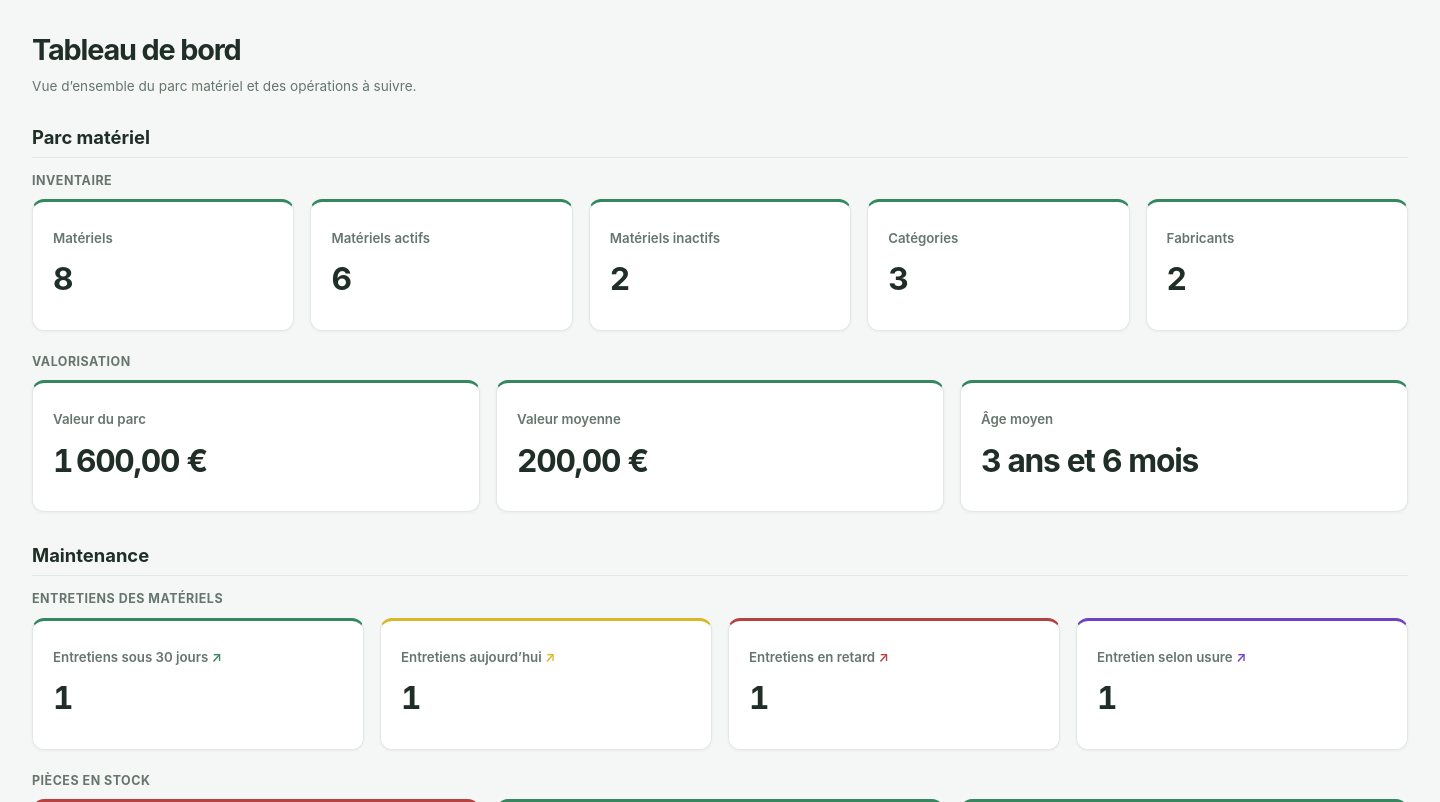
DashboardPage › opens the list matching the "Entretiens en retard" counter
Click the button "Entretiens en retard 1".
click(812, 657)  # box [729,621,1059,749]
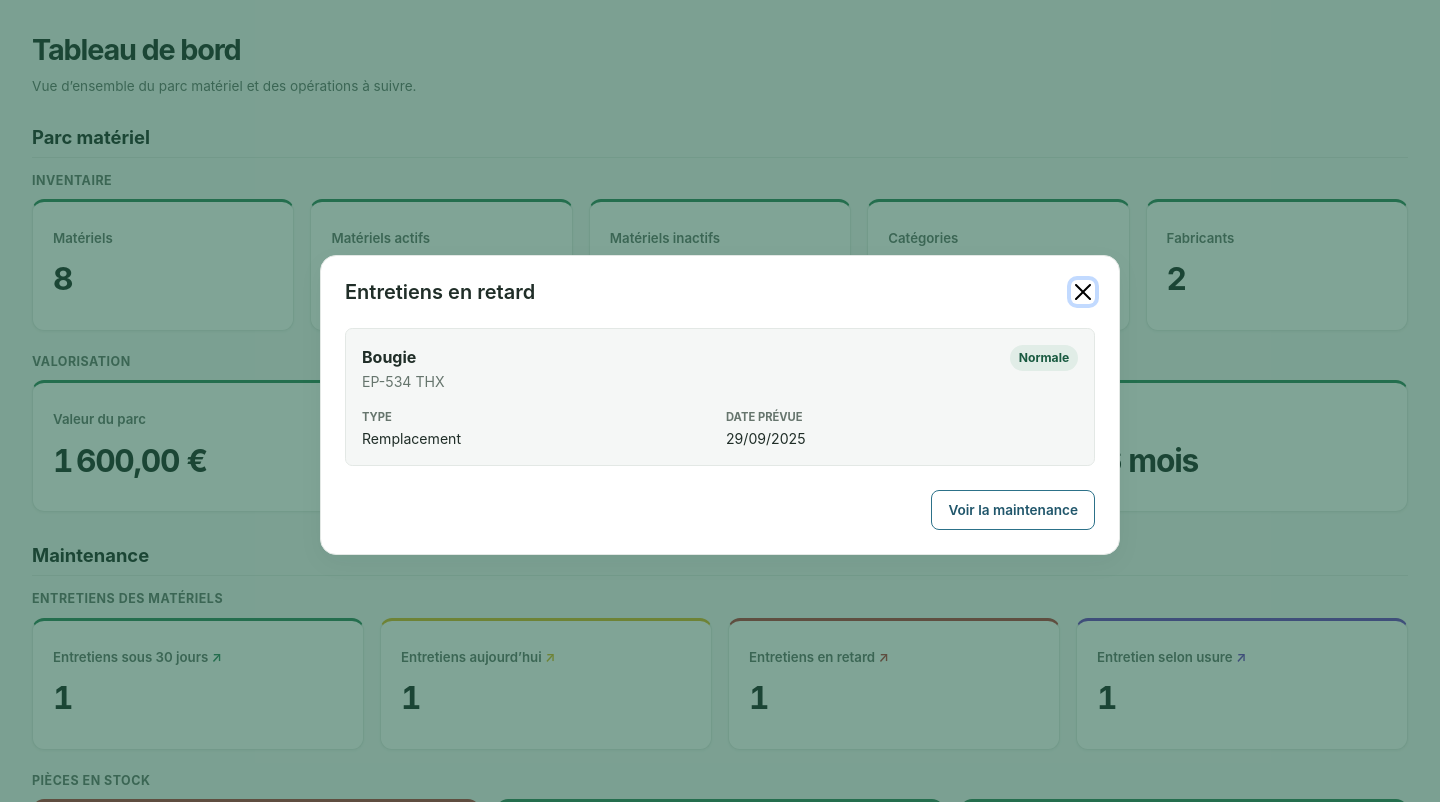
Expected: the text "Bougie" is shown, [362,347,416,367]
Expected: the text "EP-534 THX" is shown, [362,373,444,390]
